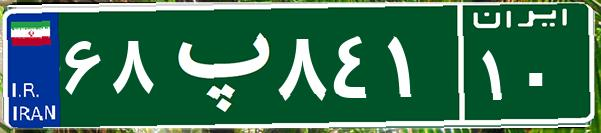0: (525, 38, 570, 115)
1: (385, 28, 445, 110), (475, 38, 525, 113)
4: (330, 28, 385, 110)
6: (57, 26, 110, 107)
8: (273, 28, 330, 110), (110, 28, 158, 105)
پ: (158, 15, 273, 115)
